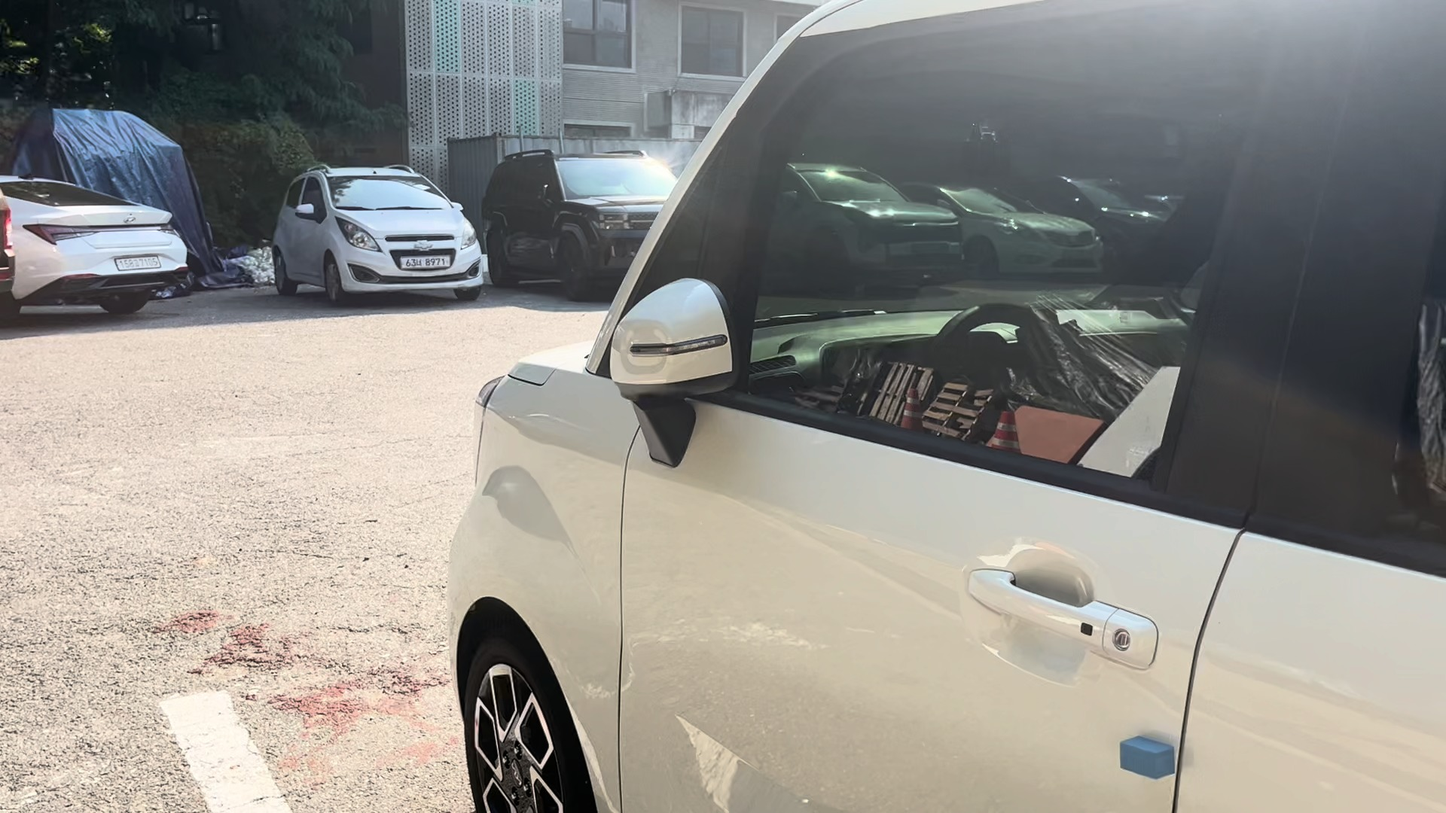door_handle: (968, 569, 1158, 668)
side_mirror: (610, 275, 735, 400)
